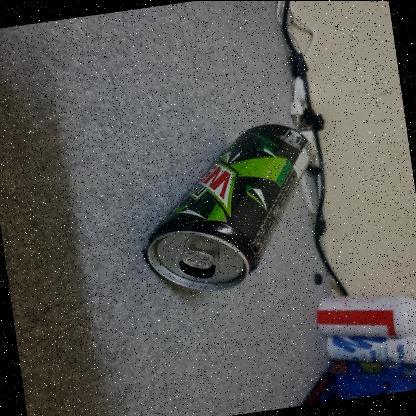Can: (146, 122, 314, 292)
